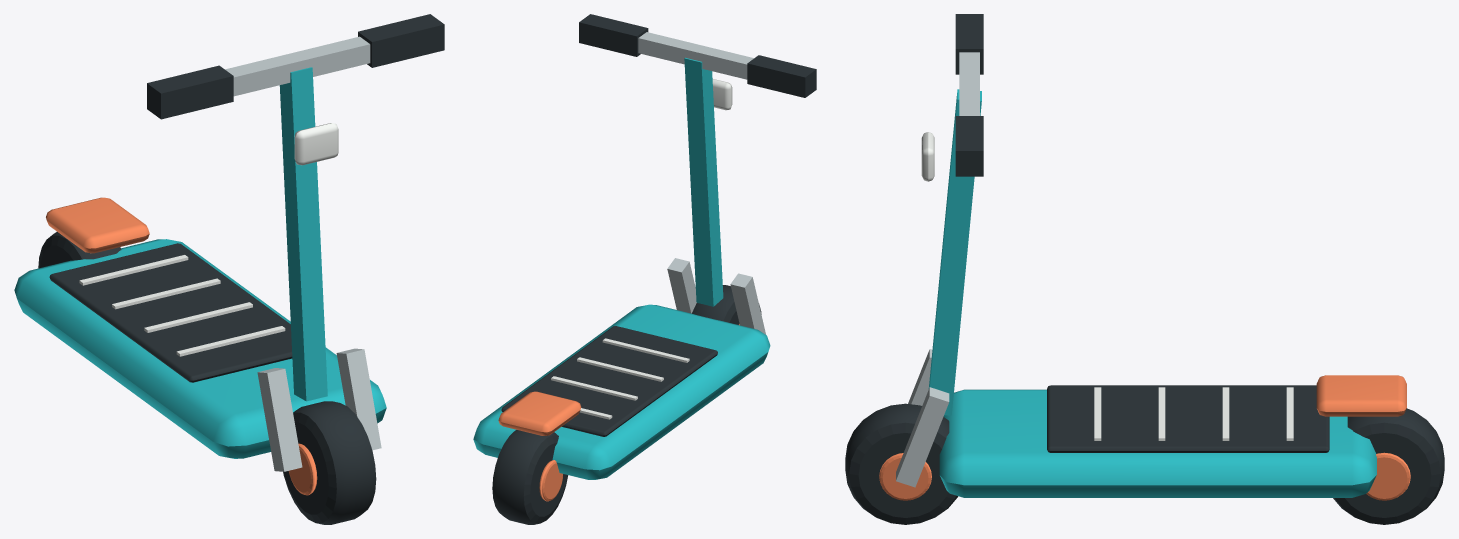
The model's file is scooter.glb.
The picture shows the model from 3 angles, left to right: view 1: azimuth 30°, elevation 25°; view 2: azimuth 150°, elevation 25°; view 3: azimuth 270°, elevation 25°; orthographic projection. The views are drawn at different scales.
Visible parts, largest first — view 1: ChildScooter; view 2: ChildScooter; view 3: ChildScooter.
Part boxes in pixels (bbox=[...]): ChildScooter: bbox=[14, 14, 444, 524]; ChildScooter: bbox=[473, 14, 816, 524]; ChildScooter: bbox=[845, 14, 1444, 524].
Bounding box in the file's own units: 0.86 × 1.28 × 1.59.
